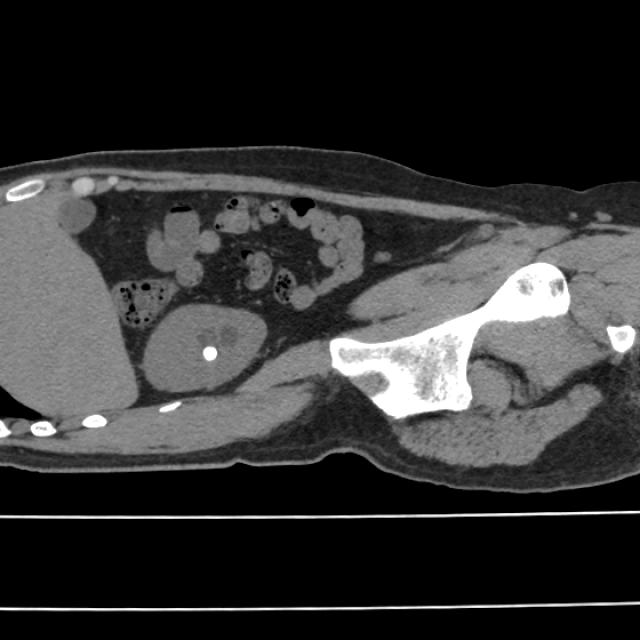kidney: (139, 300, 273, 395)
stone: (200, 341, 220, 365)
